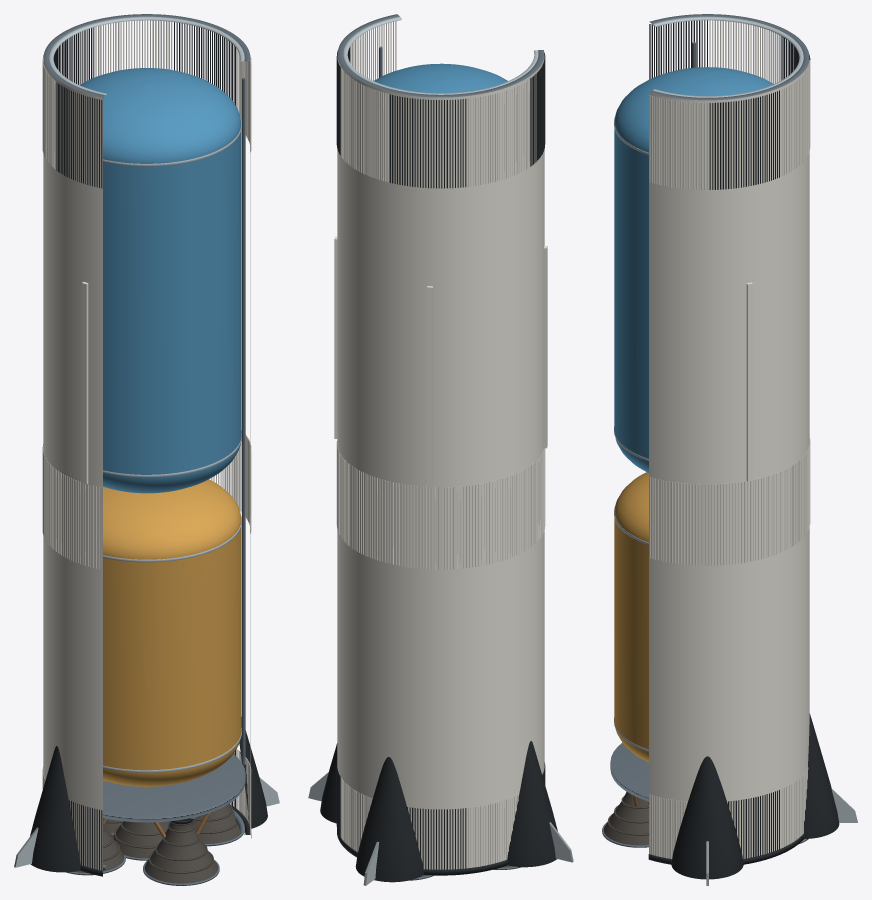
The model's file is s_ic_cutaway.glb.
3 renders of one model, left to right at view 1: azimuth 30°, elevation 25°; view 2: azimuth 150°, elevation 25°; view 3: azimuth 270°, elevation 25°, orthographic.
Visible parts, largest first — view 1: s_ic.cutaway.lox_tank.mesh, s_ic.skin.mesh, s_ic.cutaway.rp1_tank.mesh, s_ic.thrust_structure.mesh, s_ic.engine_fairing_04.mesh, s_ic.f1_02.nozzle.mesh, s_ic.mesh, s_ic.cutaway.mesh, s_ic.f1_01.nozzle.mesh, s_ic.f1_03.nozzle.mesh, s_ic.engine_fairing_02.mesh, s_ic.f1_05.nozzle.mesh; view 2: s_ic.skin.mesh, s_ic.engine_fairing_03.mesh, s_ic.engine_fairing_04.mesh, s_ic.mesh, s_ic.cutaway.lox_tank.mesh, s_ic.engine_fairing_02.mesh; view 3: s_ic.skin.mesh, s_ic.cutaway.lox_tank.mesh, s_ic.cutaway.rp1_tank.mesh, s_ic.engine_fairing_02.mesh, s_ic.mesh, s_ic.engine_fairing_03.mesh, s_ic.f1_02.nozzle.mesh, s_ic.thrust_structure.mesh.
Boxes of the visible parts, box(x1,y1,x2,y2) form: s_ic.cutaway.lox_tank.mesh: box(80, 68, 241, 493); s_ic.skin.mesh: box(42, 20, 251, 870); s_ic.cutaway.rp1_tank.mesh: box(103, 479, 241, 786); s_ic.thrust_structure.mesh: box(103, 754, 245, 822); s_ic.engine_fairing_04.mesh: box(30, 746, 80, 872); s_ic.f1_02.nozzle.mesh: box(143, 819, 219, 885); s_ic.mesh: box(43, 14, 251, 876); s_ic.cutaway.mesh: box(242, 77, 245, 764); s_ic.f1_01.nozzle.mesh: box(113, 821, 169, 860); s_ic.f1_03.nozzle.mesh: box(192, 804, 243, 846); s_ic.engine_fairing_02.mesh: box(239, 717, 267, 828); s_ic.f1_05.nozzle.mesh: box(66, 823, 125, 875); s_ic.skin.mesh: box(334, 21, 547, 869); s_ic.engine_fairing_03.mesh: box(355, 757, 423, 882); s_ic.engine_fairing_04.mesh: box(507, 741, 557, 867); s_ic.mesh: box(337, 14, 544, 875); s_ic.cutaway.lox_tank.mesh: box(374, 63, 507, 93); s_ic.engine_fairing_02.mesh: box(320, 743, 337, 823); s_ic.skin.mesh: box(649, 20, 810, 858); s_ic.cutaway.lox_tank.mesh: box(614, 67, 773, 472); s_ic.cutaway.rp1_tank.mesh: box(614, 472, 648, 762); s_ic.engine_fairing_02.mesh: box(671, 756, 743, 879); s_ic.mesh: box(648, 14, 809, 864); s_ic.engine_fairing_03.mesh: box(803, 713, 839, 838); s_ic.f1_02.nozzle.mesh: box(602, 791, 648, 847); s_ic.thrust_structure.mesh: box(610, 742, 648, 801).
Bounding box in the file's own units: 14.8 × 42.06 × 12.59.
